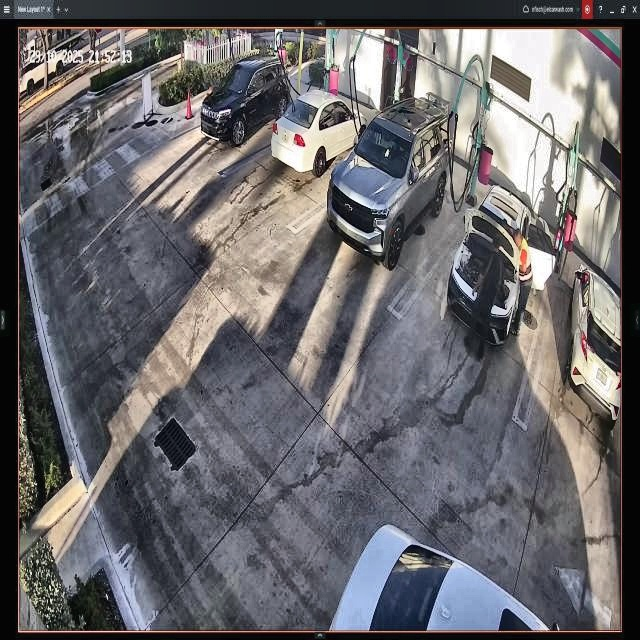Car: (328, 96, 447, 265), (449, 185, 555, 342), (200, 62, 291, 143), (272, 90, 366, 168)
